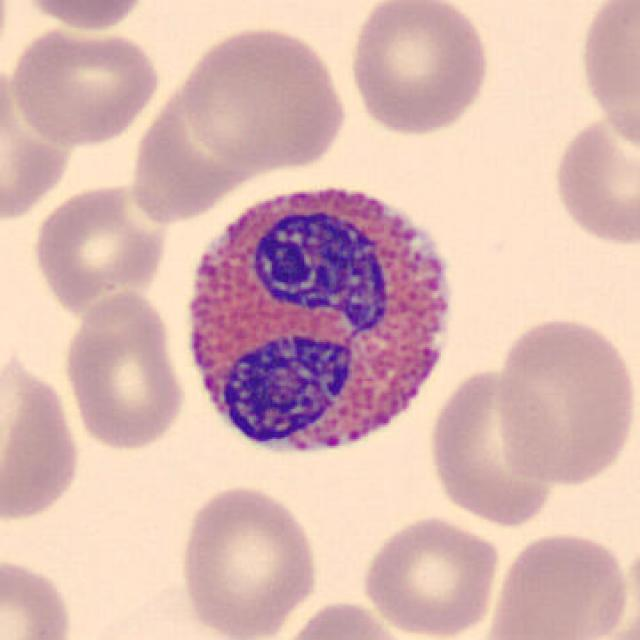Eosinophil: (175, 166, 470, 474)
RBC: (176, 23, 350, 173), (491, 310, 636, 490), (425, 361, 565, 531), (174, 482, 322, 638), (58, 287, 188, 455), (345, 0, 494, 138), (5, 19, 162, 148), (29, 178, 172, 316), (357, 512, 503, 638), (478, 525, 635, 640), (0, 343, 85, 530), (0, 64, 82, 228), (548, 111, 638, 250), (574, 0, 640, 157), (0, 553, 76, 640), (274, 597, 416, 640), (10, 0, 156, 33), (590, 603, 640, 640)
